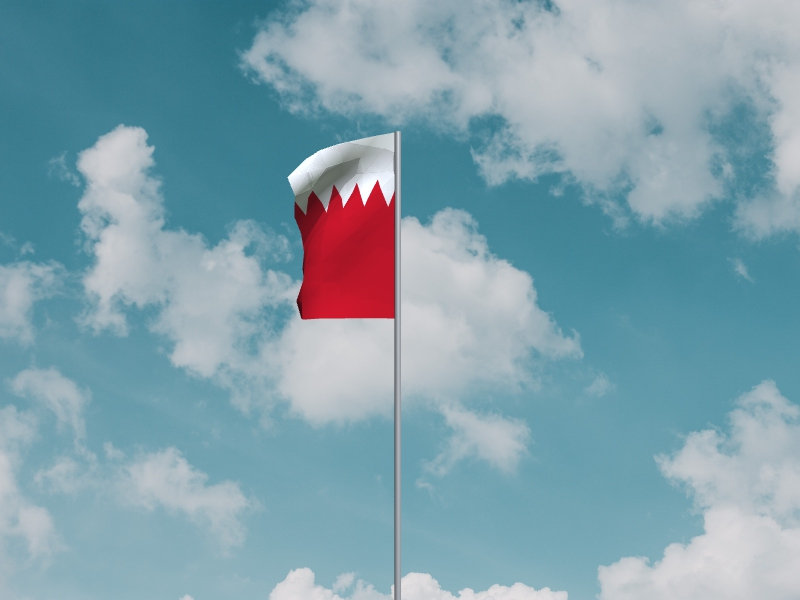bh: (286, 133, 396, 321)
